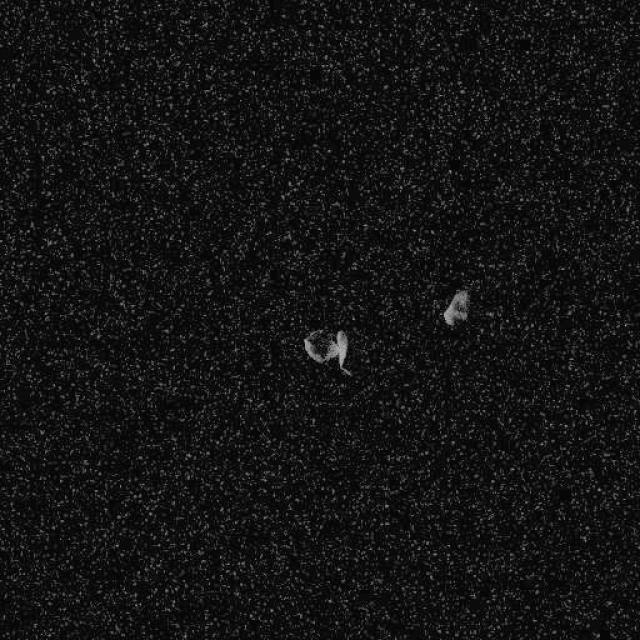D2: (301, 326, 351, 376), (441, 288, 470, 326)
